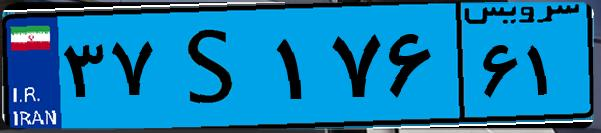1: (270, 28, 330, 110), (525, 38, 570, 115)
3: (57, 26, 110, 100)
6: (385, 28, 445, 110), (475, 38, 525, 113)
7: (330, 28, 385, 110), (110, 28, 158, 98)
S: (158, 12, 270, 120)
